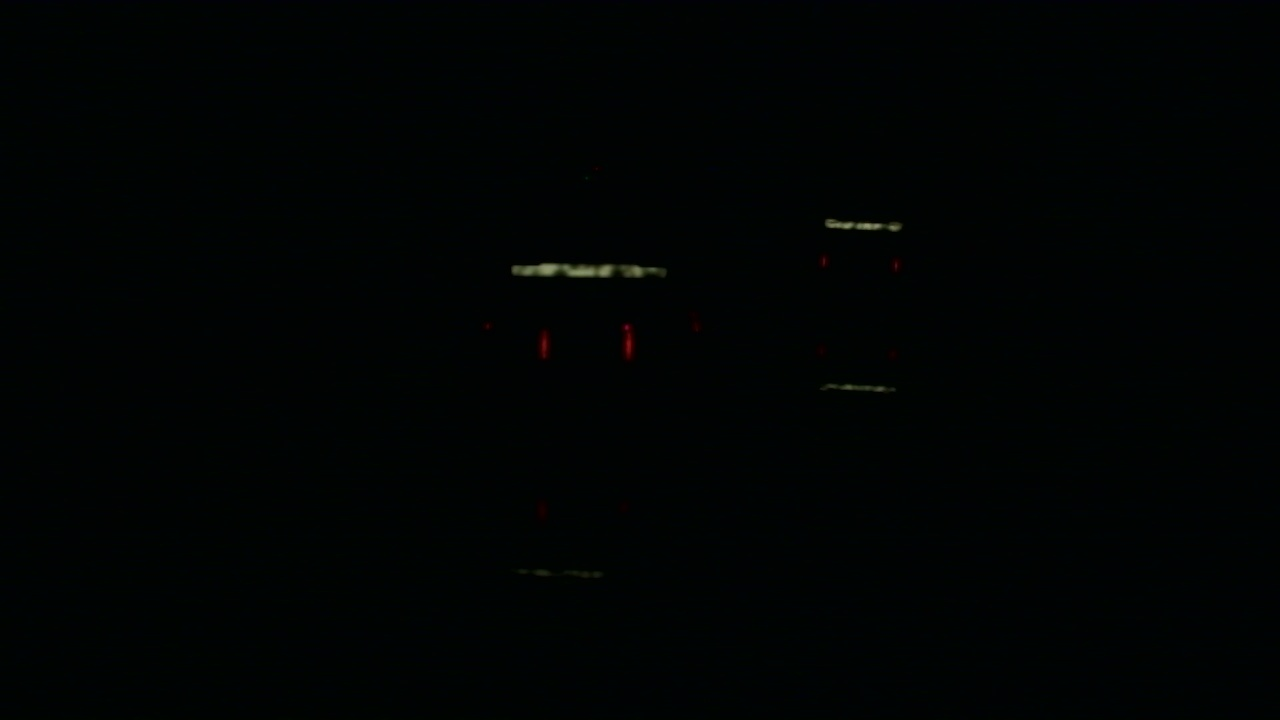lamp: (533, 329, 552, 353), (624, 329, 636, 357), (895, 255, 906, 276), (815, 256, 823, 277)
pair1: (540, 330, 632, 357)
pair2: (820, 256, 900, 275)
